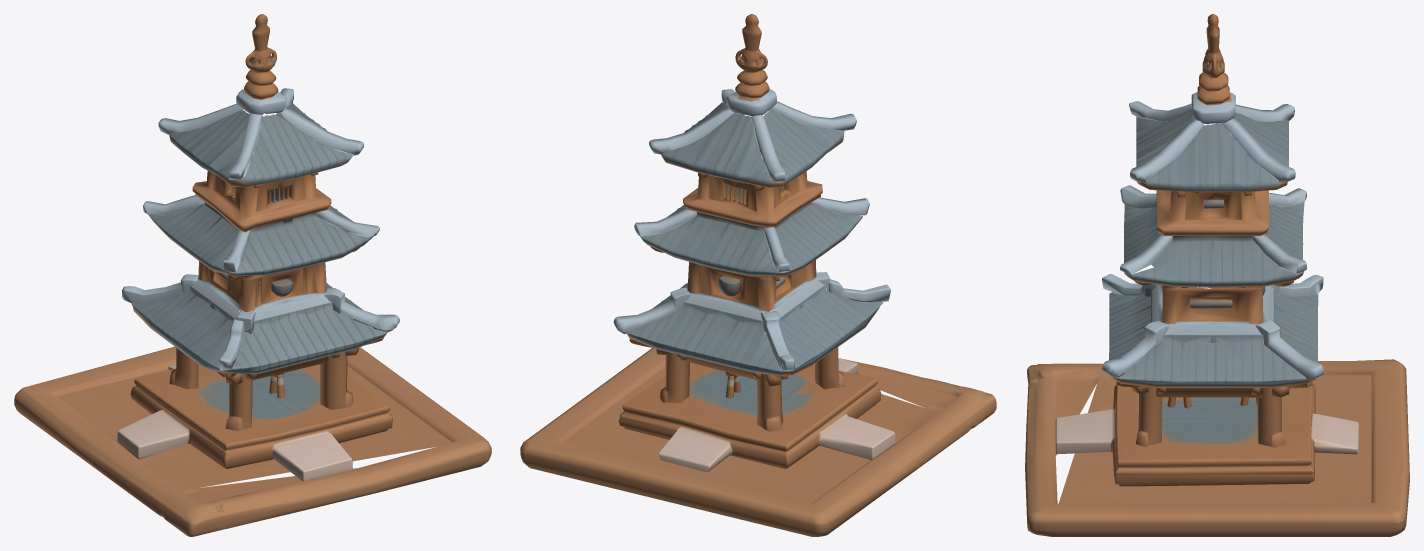
Rendered from kawagoe.glb.
The picture shows the model from 3 angles, left to right: view 1: azimuth 30°, elevation 25°; view 2: azimuth 150°, elevation 25°; view 3: azimuth 270°, elevation 25°; orthographic projection. The views are drawn at different scales.
Parts seen in each view (by area): view 1: a677277f_ab61_45db_97d6_4db69ff32471; view 2: a677277f_ab61_45db_97d6_4db69ff32471; view 3: a677277f_ab61_45db_97d6_4db69ff32471.
Boxes of the visible parts, x1,y1,x2,y2 form: a677277f_ab61_45db_97d6_4db69ff32471: (14,14,491,536); a677277f_ab61_45db_97d6_4db69ff32471: (520,14,996,536); a677277f_ab61_45db_97d6_4db69ff32471: (1025,14,1409,536).
Size of the model in its own units: 0.7661 by 0.9995 by 0.7778.
Materials: 1 (1 with a texture image).
